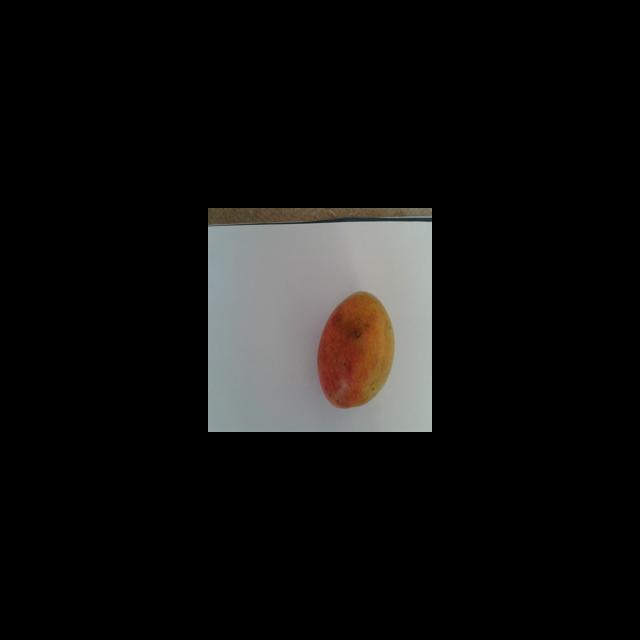Mango: (316, 290, 394, 408)
